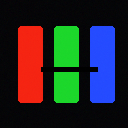3 line_h: (41, 67, 97, 71)
